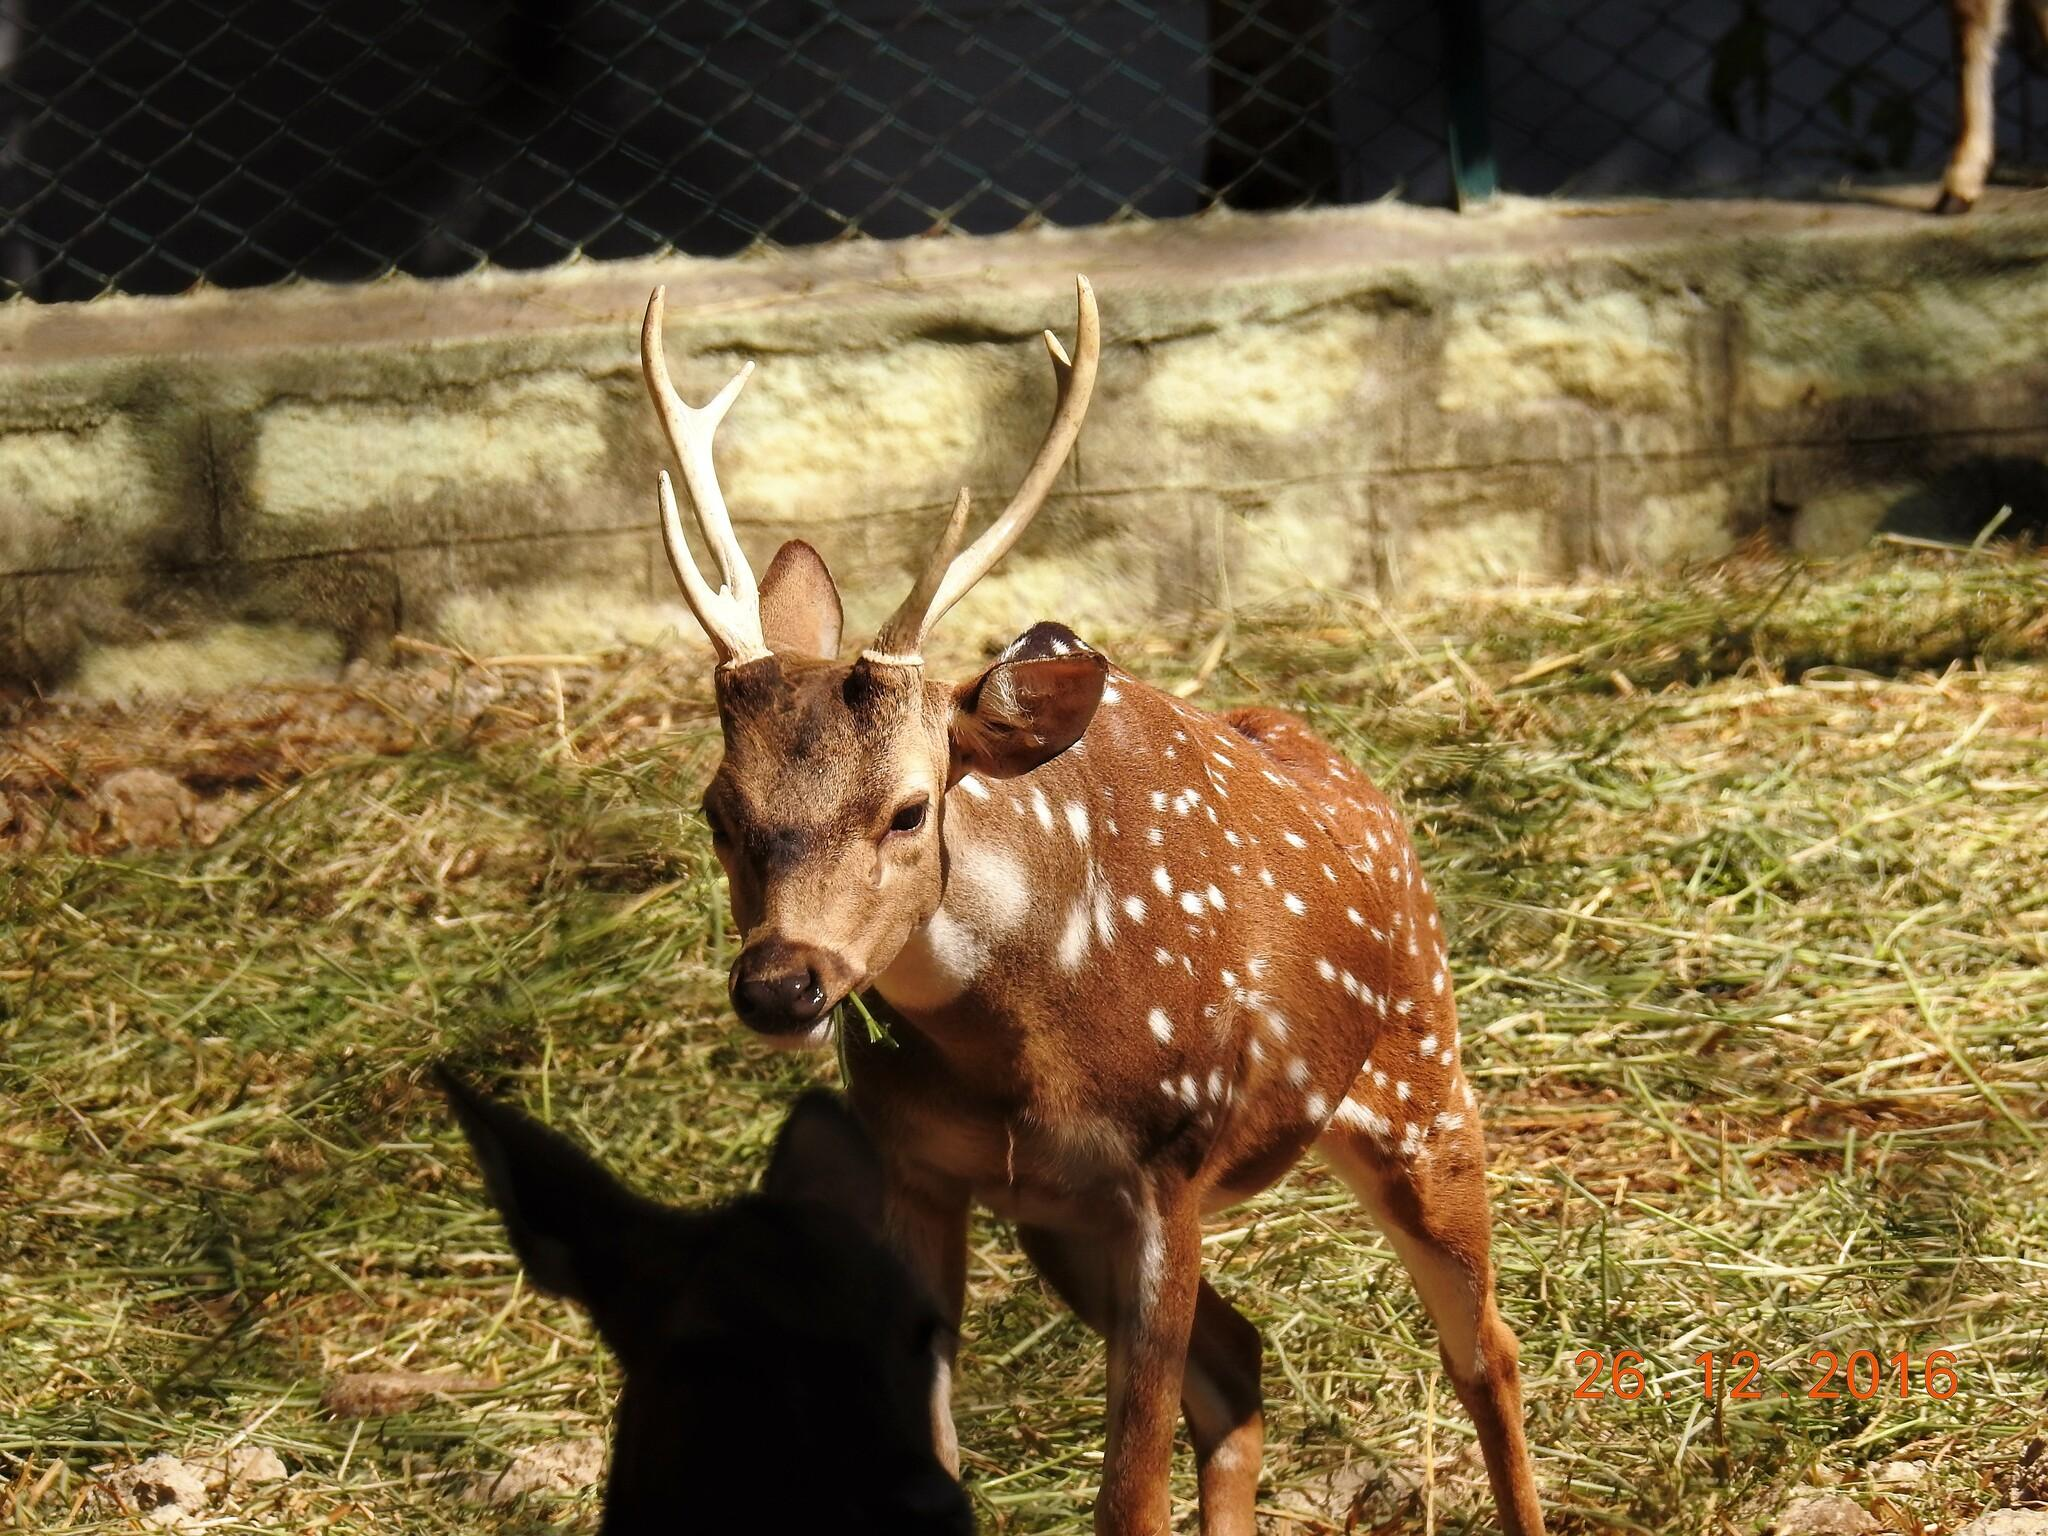Deer: (640, 278, 1543, 1534)
